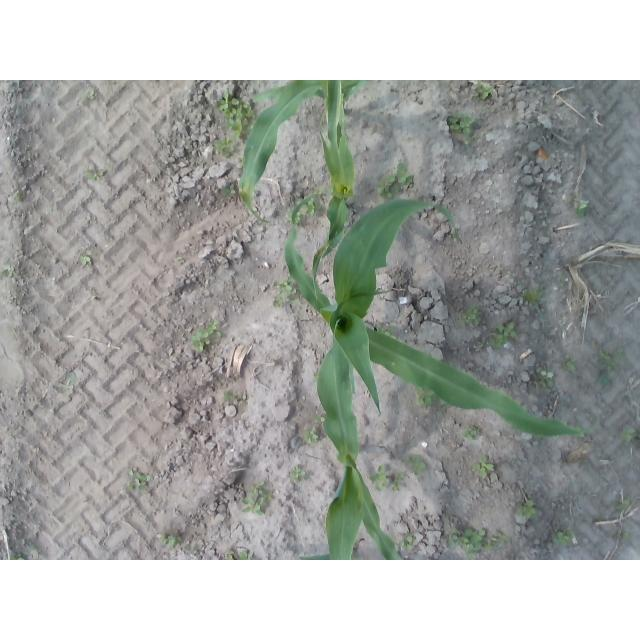Maize: (287, 194, 584, 438), (318, 321, 407, 560), (239, 81, 365, 224), (312, 80, 356, 301), (301, 548, 360, 561)
Weeds: (375, 163, 413, 198), (452, 526, 485, 556), (243, 483, 270, 512), (125, 471, 152, 494), (220, 93, 241, 116), (514, 498, 537, 518), (371, 467, 389, 491), (451, 116, 474, 132), (214, 137, 233, 156), (473, 83, 491, 102), (474, 459, 494, 476), (540, 371, 557, 390), (498, 323, 519, 337), (409, 457, 427, 473), (524, 288, 541, 304), (192, 333, 210, 348), (489, 531, 507, 546), (207, 321, 221, 340), (491, 332, 510, 346), (418, 391, 434, 406), (464, 311, 481, 325), (555, 530, 573, 543), (229, 116, 243, 132), (240, 106, 257, 119), (292, 465, 307, 479), (398, 536, 414, 549), (86, 171, 106, 181), (578, 198, 590, 214), (624, 426, 636, 442), (462, 428, 478, 440), (598, 354, 613, 366), (303, 430, 317, 442), (156, 532, 170, 544), (277, 281, 292, 292), (614, 347, 625, 362), (170, 537, 184, 548), (618, 498, 630, 510), (222, 391, 235, 402), (395, 474, 405, 488), (566, 363, 578, 373), (68, 373, 79, 383), (4, 266, 15, 275), (80, 257, 90, 266), (272, 301, 284, 308), (227, 186, 236, 195)
